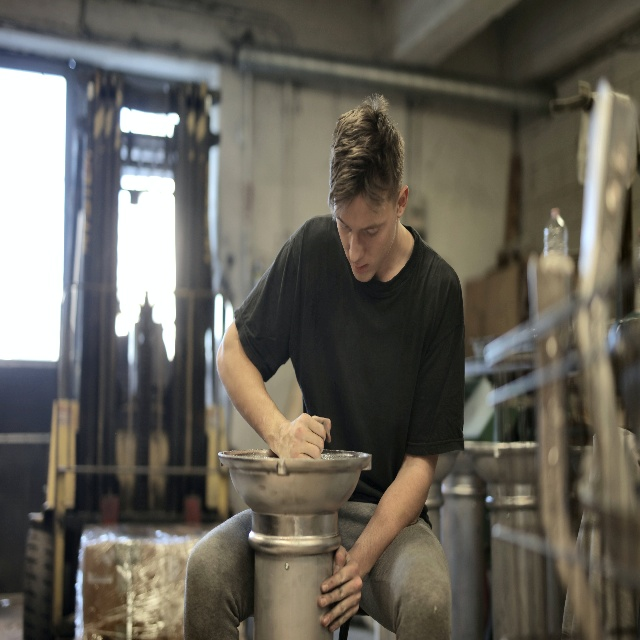Sin_guantes: (317, 542, 363, 632), (279, 412, 332, 460)
